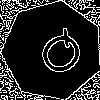Q: (27, 25, 90, 86)
